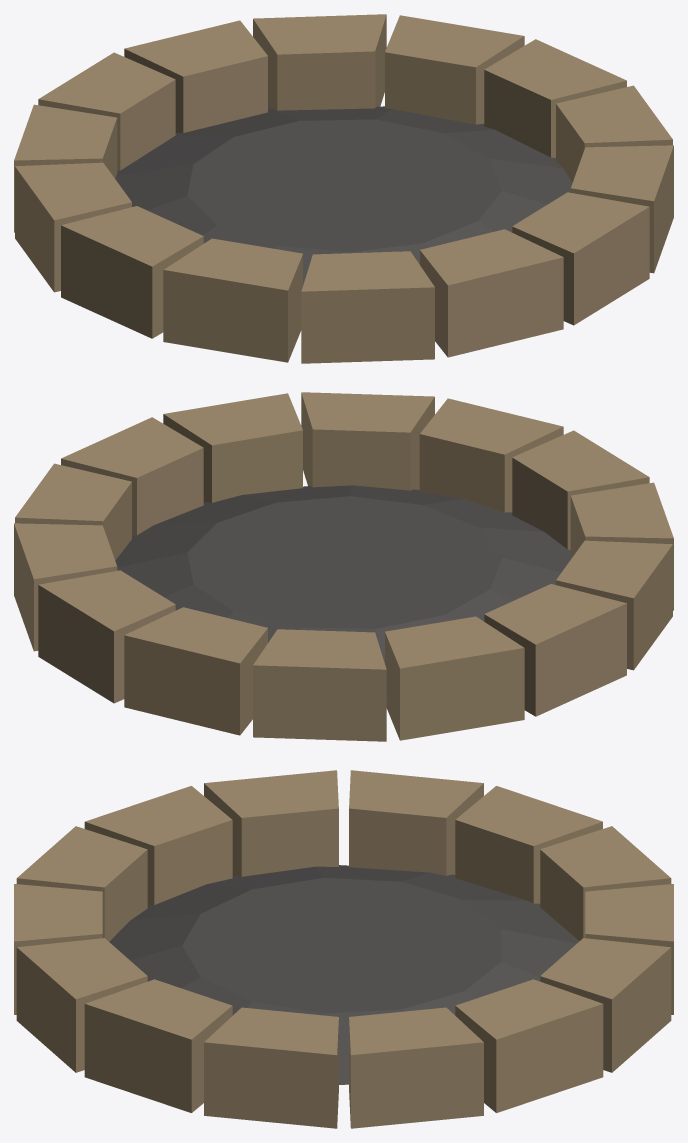
Rendered from Fireplace.fbx.
3 views of the same model, one above another, from view 1: azimuth 30°, elevation 25°; view 2: azimuth 150°, elevation 25°; view 3: azimuth 270°, elevation 25° (orthographic).
Visible parts, largest first — view 1: Firepit; view 2: Firepit; view 3: Firepit.
Part boxes in pixels (x1,y1,x2,y2): Firepit: [14, 14, 673, 363]; Firepit: [14, 392, 673, 741]; Firepit: [14, 770, 673, 1128].
Bounding box in the file's own units: 3.39 × 0.4083 × 3.32.
